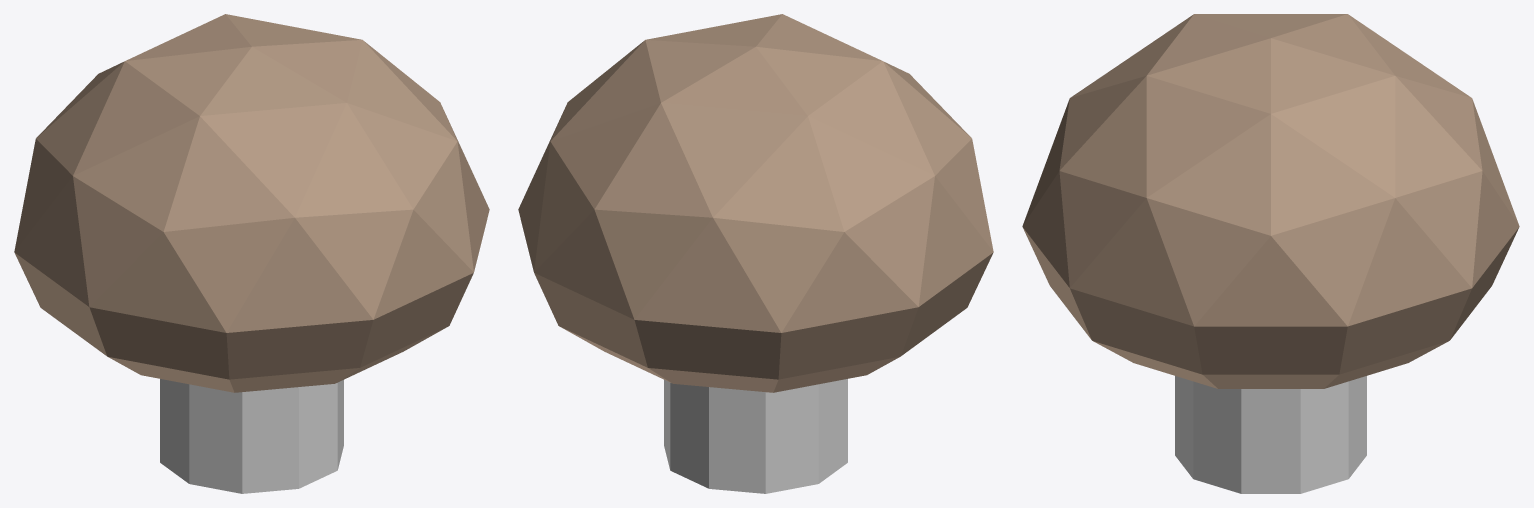
The model's file is SM_Mushroom.fbx.
3 views of the same model, side by side, from view 1: azimuth 30°, elevation 25°; view 2: azimuth 150°, elevation 25°; view 3: azimuth 270°, elevation 25° (orthographic). The views are drawn at different scales.
Visible parts, largest first — view 1: pieczarka; view 2: pieczarka; view 3: pieczarka.
Part boxes in pixels (box(x1,y1,x2,y2)): pieczarka: box(14, 14, 489, 493); pieczarka: box(518, 14, 993, 493); pieczarka: box(1022, 14, 1519, 493).
Bounding box in the file's own units: 32.73 × 31.86 × 34.42.
